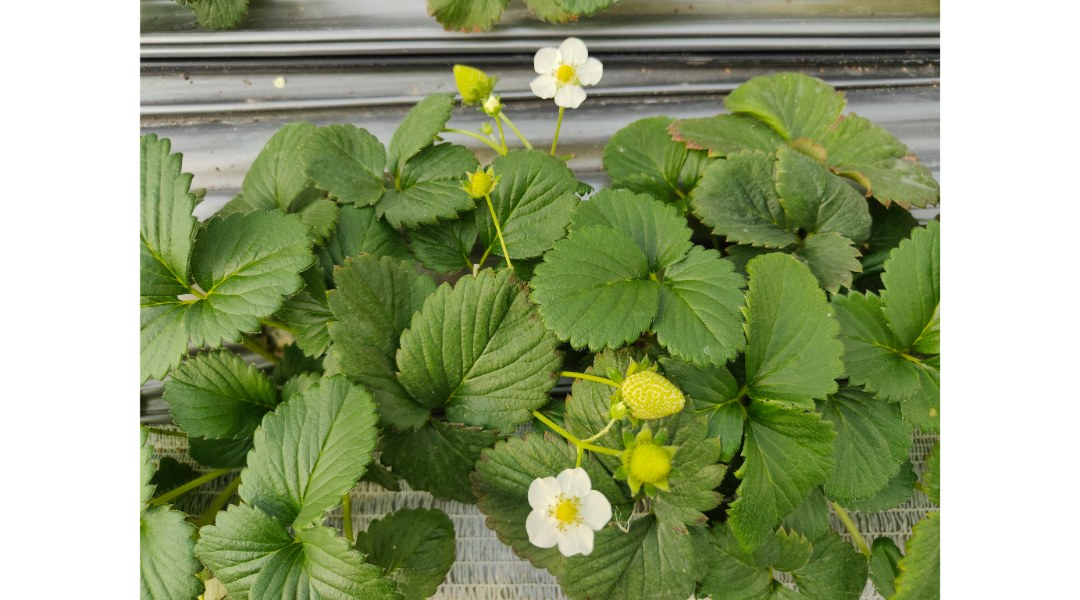berry: (609, 351, 684, 425), (614, 430, 683, 499), (443, 53, 502, 118), (454, 164, 508, 200)
flower: (514, 465, 617, 563), (520, 29, 605, 116)
strain: (478, 206, 522, 280), (550, 353, 617, 397), (529, 409, 571, 444)
